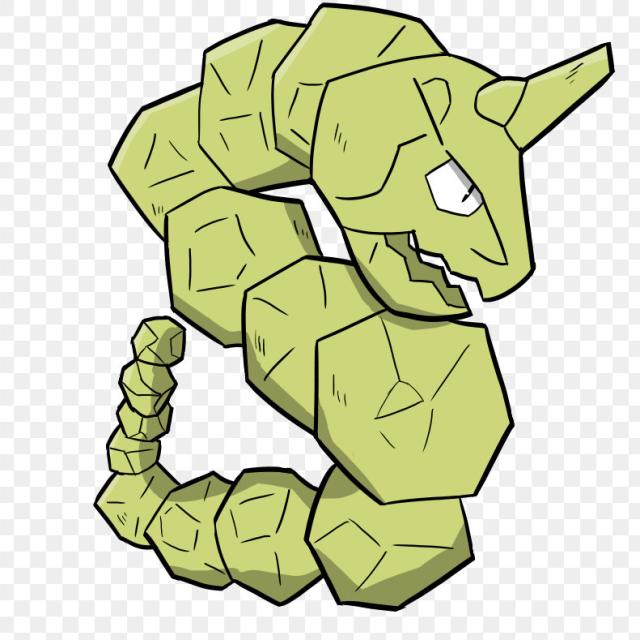Onix: (115, 12, 551, 544)
